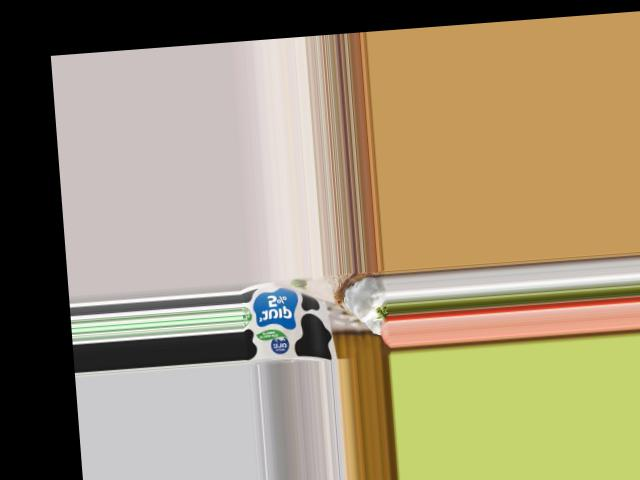cotage: (240, 279, 332, 366)
